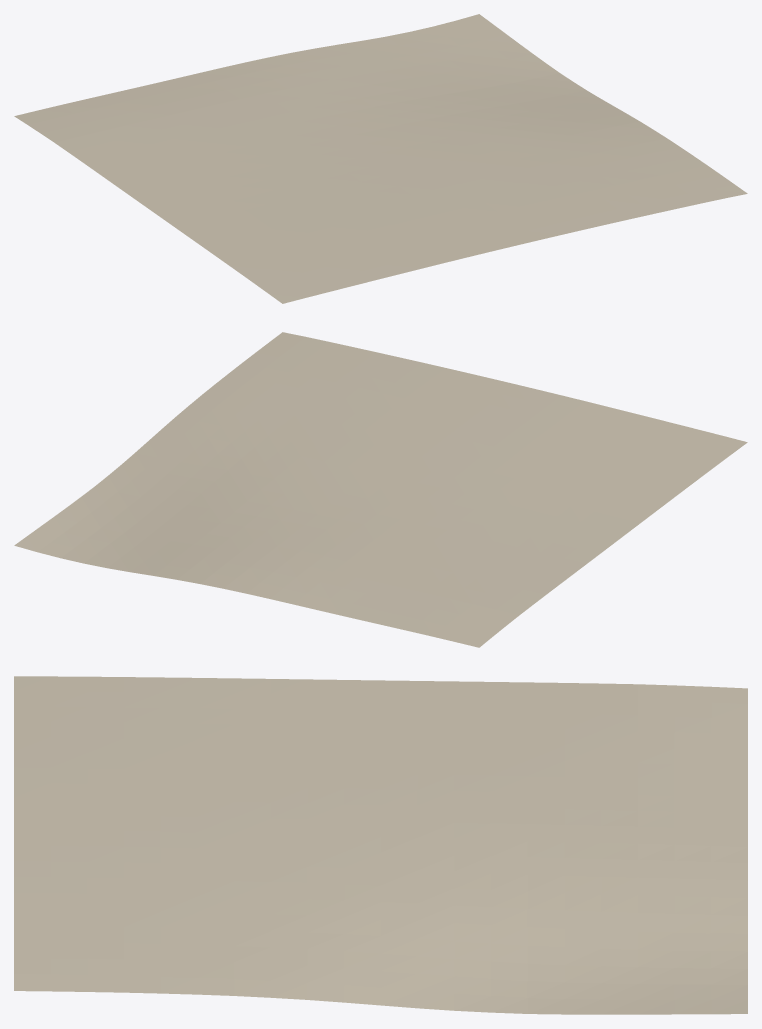
Rendered from bolak_-24_1.glb.
3 views of the same model, one above another, from view 1: azimuth 30°, elevation 25°; view 2: azimuth 150°, elevation 25°; view 3: azimuth 270°, elevation 25° (orthographic). The views are drawn at different scales.
Parts seen in each view (by area): view 1: Yer_Tuproq-col; view 2: Yer_Tuproq-col; view 3: Yer_Tuproq-col.
Boxes of the visible parts, <box> form: Yer_Tuproq-col: <box>14,14,747,303</box>; Yer_Tuproq-col: <box>14,332,747,647</box>; Yer_Tuproq-col: <box>14,676,747,1014</box>.
Size of the model in its own units: 400 by 18.85 by 400.
